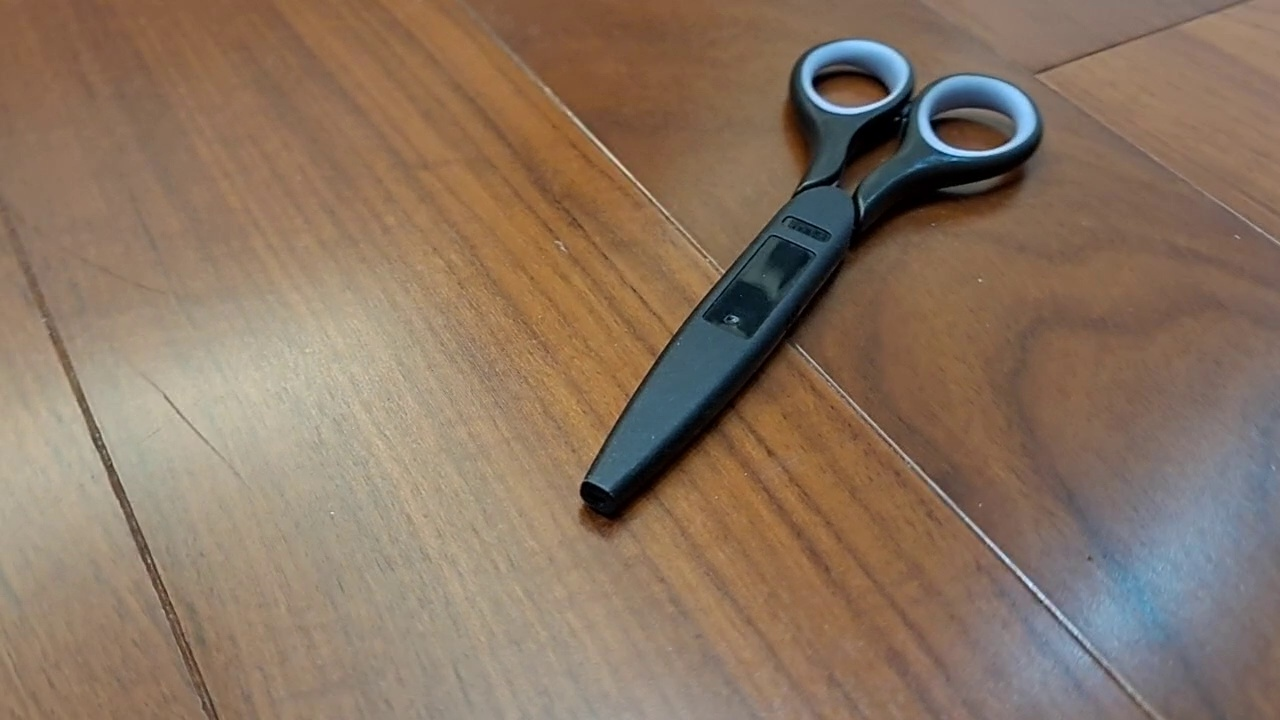scissors: (577, 36, 1046, 520)
